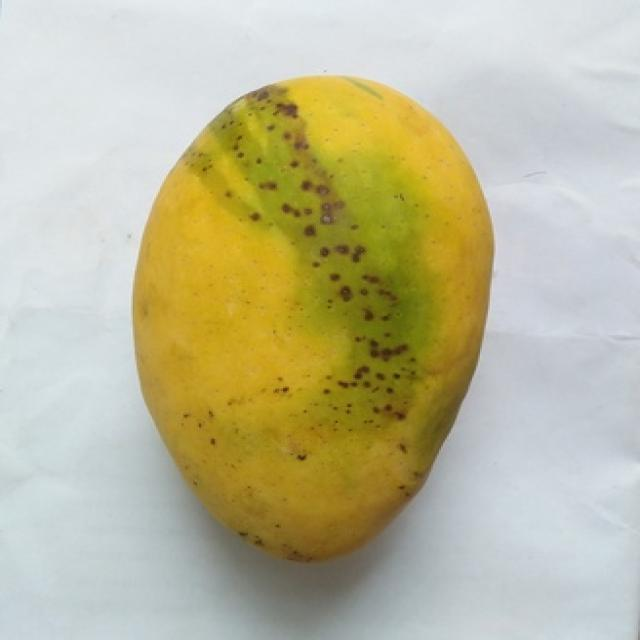Mango: (135, 78, 492, 559)
